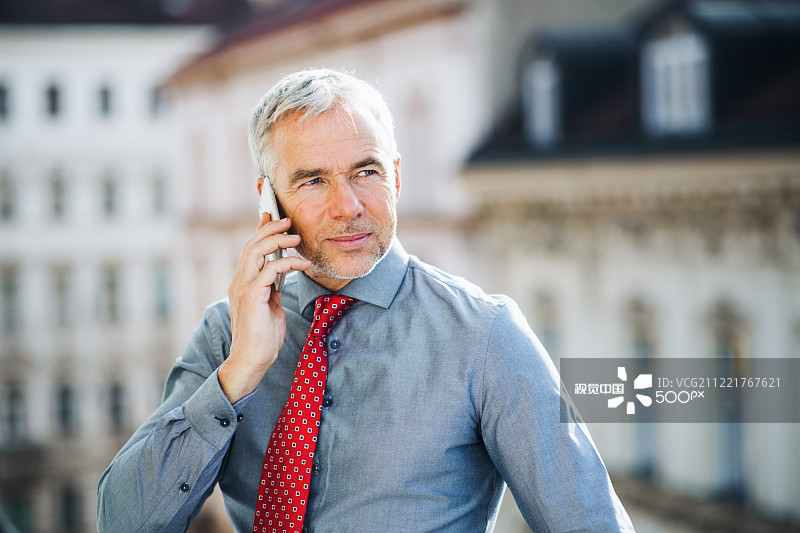calling: (200, 174, 315, 380)
